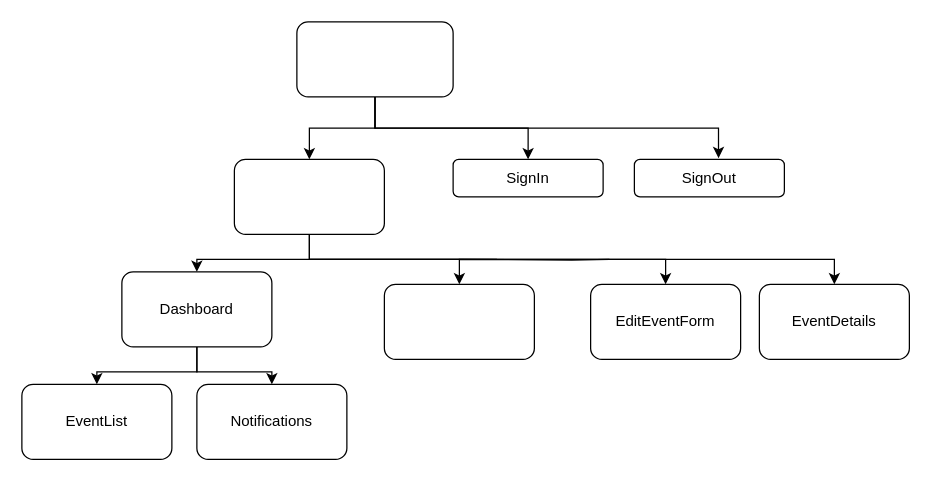
Image size: 931x481. Some labels were removed from this diagram. The centre of each missing label's shape, as x and y in pixels:
"App" belongs at (x=374, y=59).
"CreateNewEventForm" belongs at (x=458, y=321).
"EventController" belongs at (x=308, y=196).
